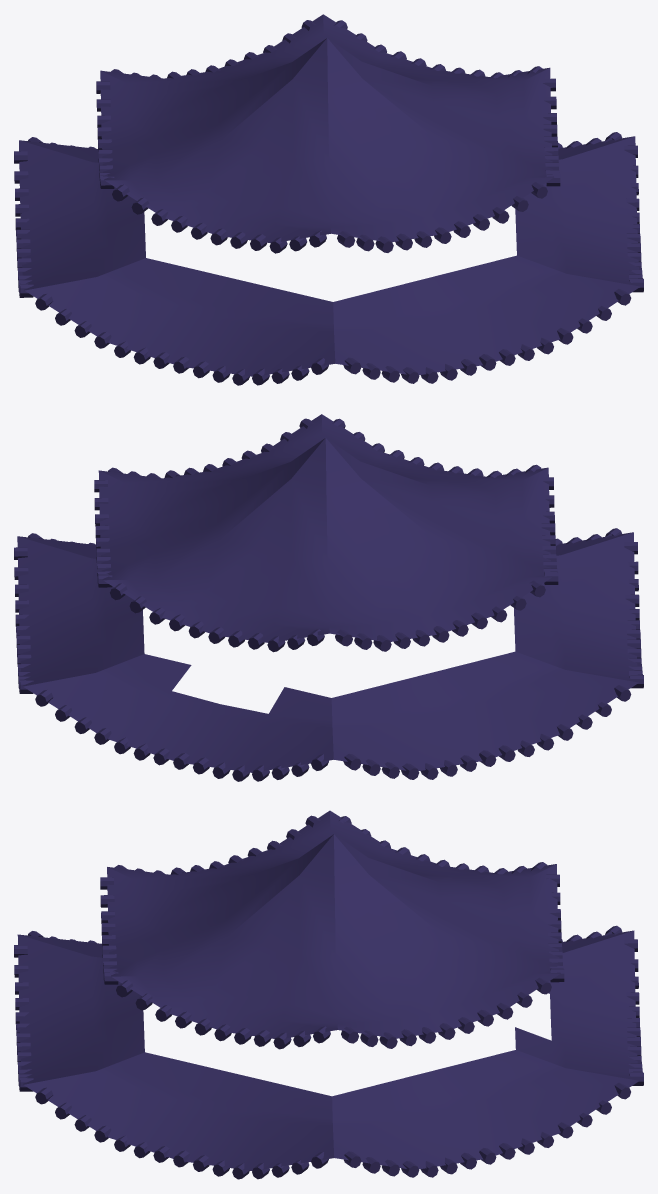
File: tuile 04.fbx
The picture shows the model from 3 angles, top to bottom: view 1: azimuth 30°, elevation 25°; view 2: azimuth 150°, elevation 25°; view 3: azimuth 270°, elevation 25°; orthographic projection.
Parts seen in each view (by area): view 1: Circle.074, Circle.078, Circle.089, Circle.088; view 2: Circle.074, Circle.078, Circle.089, Circle.088; view 3: Circle.074, Circle.078, Circle.089, Circle.088.
Boxes of the visible parts, x1,y1,x2,y2 form: Circle.074: [100, 14, 553, 243]; Circle.078: [19, 136, 640, 376]; Circle.089: [14, 132, 643, 385]; Circle.088: [96, 20, 560, 253]; Circle.074: [98, 414, 552, 642]; Circle.078: [17, 532, 639, 772]; Circle.089: [14, 528, 643, 781]; Circle.088: [94, 418, 558, 652]; Circle.074: [107, 810, 560, 1038]; Circle.078: [17, 930, 639, 1170]; Circle.089: [14, 925, 643, 1179]; Circle.088: [100, 815, 564, 1049].
Bounding box in the file's own units: 31.61 × 10.7 × 27.98.
